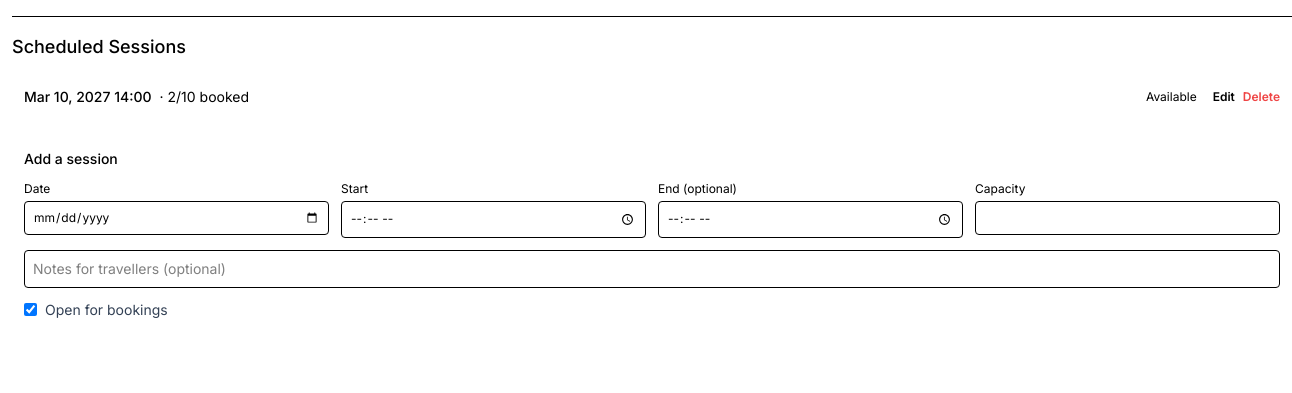
it: TourScheduleManager › no intenta borrar una sesion con reservas y explica por que
This screenshot has width=1292, height=393.
Click the button "Delete" at (1261, 97), box [1243,89,1280,105]
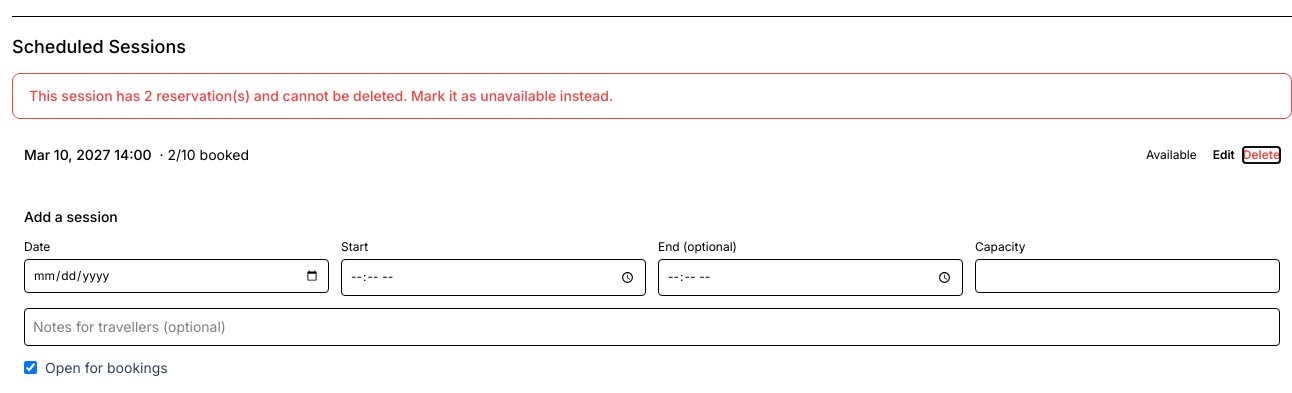
Expected: the message shows "2 reservation(s) and cannot be deleted", [29,87,613,104]
